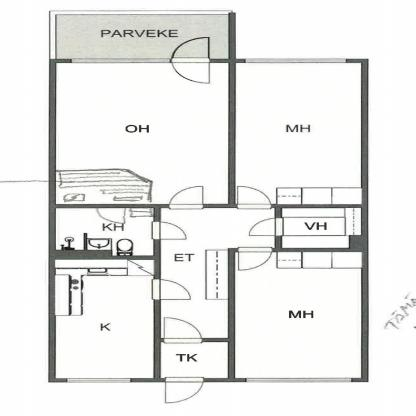door: (171, 36, 212, 83), (164, 376, 209, 404), (162, 317, 206, 343), (149, 278, 192, 302), (233, 184, 274, 209), (166, 186, 205, 211), (150, 220, 187, 240), (250, 219, 282, 237)
window: (74, 58, 171, 64), (244, 59, 344, 64), (247, 378, 351, 382), (66, 378, 130, 382)
zone: (58, 61, 230, 204), (235, 63, 360, 203), (236, 250, 359, 379), (159, 207, 280, 337), (52, 258, 156, 378), (55, 14, 227, 58), (54, 208, 154, 256), (280, 208, 361, 248)
